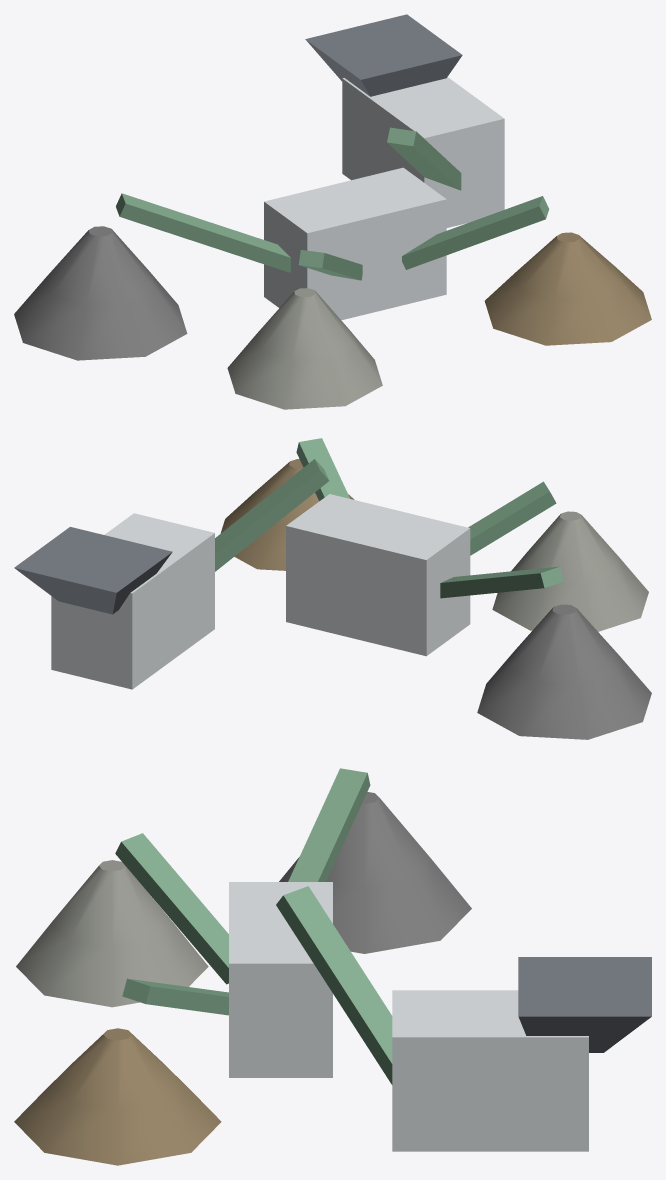
File: site_plant_far.fbx
3 renders of one model, top to bottom at view 1: azimuth 30°, elevation 25°; view 2: azimuth 150°, elevation 25°; view 3: azimuth 270°, elevation 25°, orthographic. The views are drawn at different scales.
Parts seen in each view (by area): view 1: a1089/0/site_plant_far; view 2: a1089/0/site_plant_far; view 3: a1089/0/site_plant_far.
Part boxes in pixels (x1,y1,x2,y2): a1089/0/site_plant_far: (14,14,651,409); a1089/0/site_plant_far: (14,438,651,739); a1089/0/site_plant_far: (14,768,651,1165).
Bounding box in the file's own units: 19.3 × 5.3 × 17.2.
